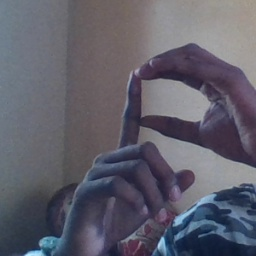P: (93, 40, 238, 219)
